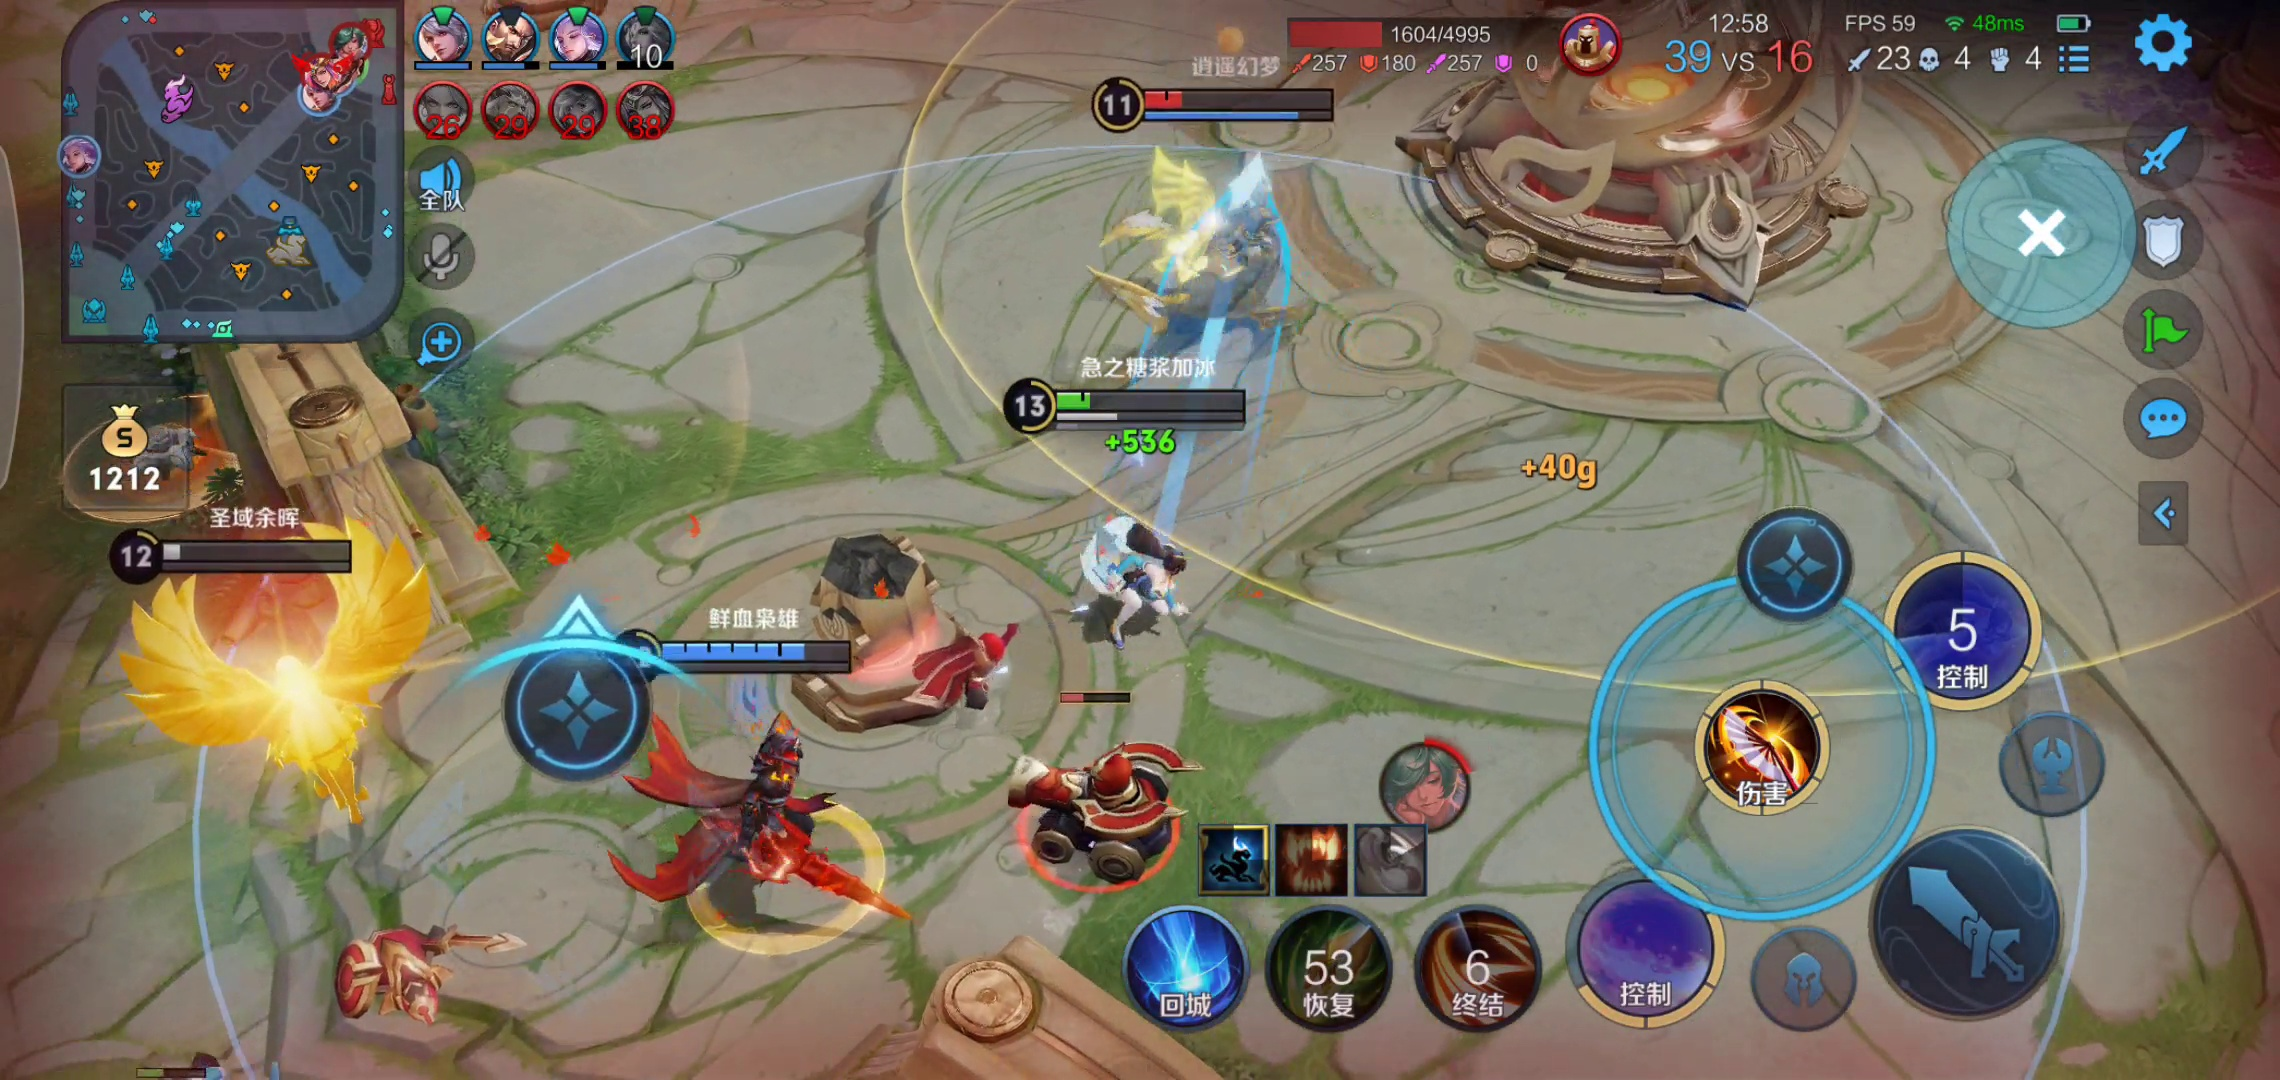crystal: (1386, 3, 1895, 311)
hero: (128, 579, 430, 823), (663, 720, 891, 940), (1077, 147, 1319, 353), (1067, 501, 1214, 656)
soldier: (996, 718, 1179, 892), (307, 908, 534, 1029)
tower: (788, 512, 992, 712)
